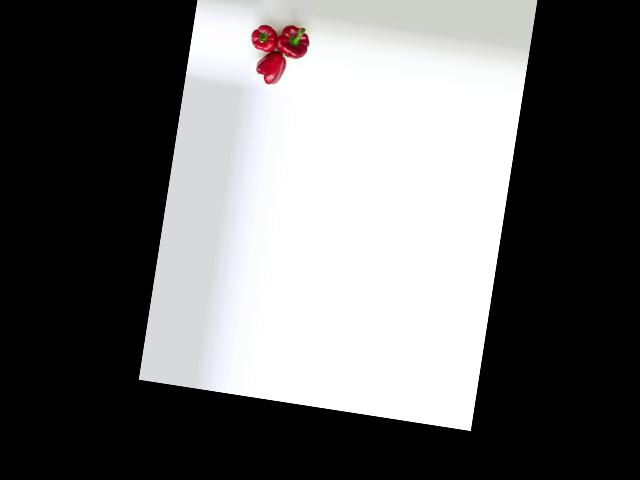bell_pepper: (247, 46, 290, 90)
